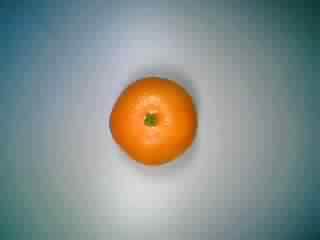orange: (105, 69, 200, 165)
